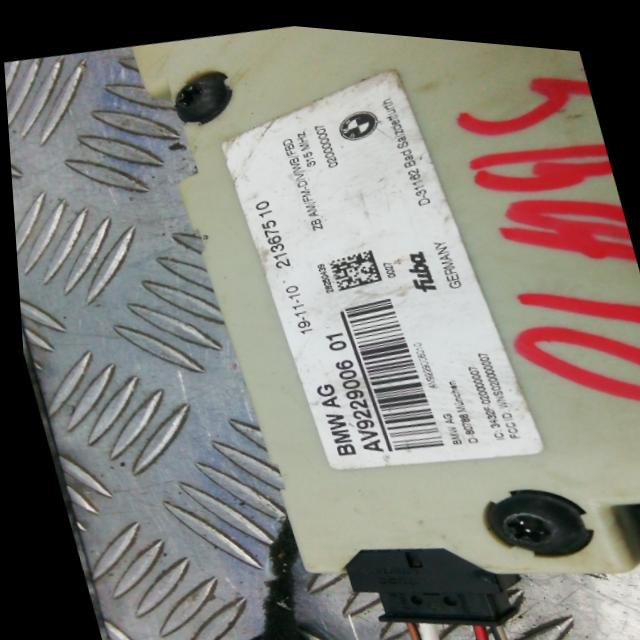datamatrix: (324, 239, 381, 288)
